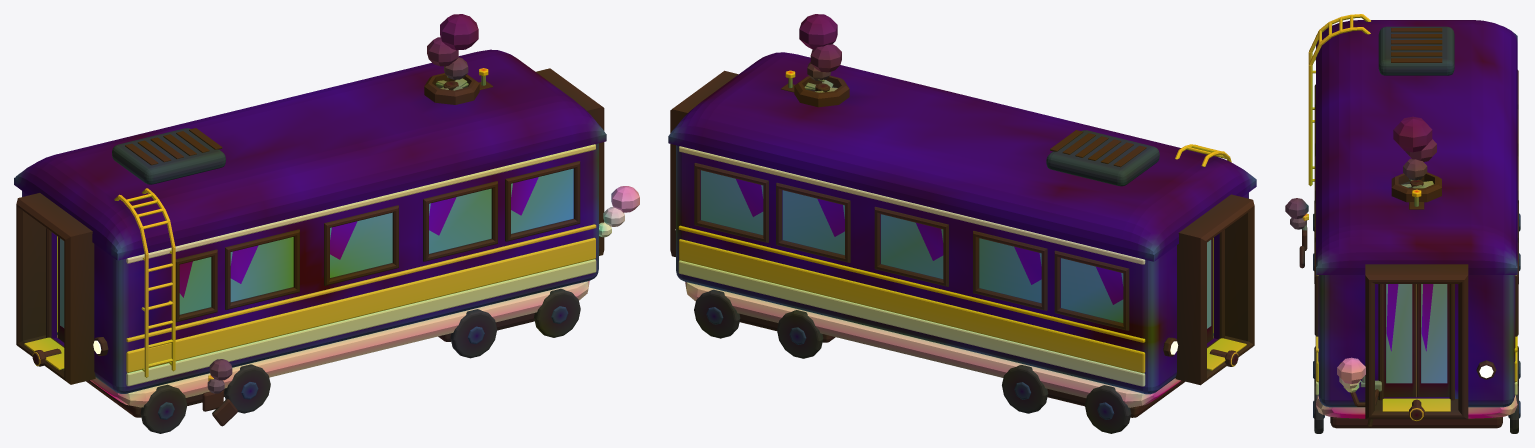
Rendered from ModernCoach_Closed_Blockout.glb.
3 renders of one model, left to right at view 1: azimuth 30°, elevation 25°; view 2: azimuth 150°, elevation 25°; view 3: azimuth 270°, elevation 25°, orthographic. The views are drawn at different scales.
Parts seen in each view (by area): view 1: Roof, Body, Windows, Livery, Underframe, Ends, RoofLadder, Broken_Bits__Aircon, Broken_Bits__BrakeHose, Broken_Bits__AxleBox, EndDoorLeaf_R_Rear; view 2: Roof, Body, Windows, Livery, Underframe, Ends, Broken_Bits__Aircon, EndDoorLeaf_L_Rear; view 3: Roof, Body, Ends, Underframe, EndDoorLeaf_L_Front, EndDoorLeaf_R_Front, Broken_Bits__Aircon, RoofLadder, Windows, Broken_Bits__BrakeHose, Broken_Bits__AxleBox, Livery (+1 smaller).
Boxes of the visible parts, left/top/right/bottom form: Roof: left=14, top=49, right=606, bottom=260; Body: left=22, top=143, right=598, bottom=393; Windows: left=175, top=161, right=580, bottom=322; Livery: left=126, top=144, right=596, bottom=386; Underframe: left=86, top=281, right=589, bottom=433; Ends: left=16, top=68, right=604, bottom=384; RoofLadder: left=114, top=188, right=175, bottom=377; Broken_Bits__Aircon: left=427, top=14, right=478, bottom=90; Broken_Bits__BrakeHose: left=599, top=186, right=639, bottom=237; Broken_Bits__AxleBox: left=207, top=359, right=237, bottom=426; EndDoorLeaf_R_Rear: left=57, top=236, right=64, bottom=342; Roof: left=668, top=52, right=1256, bottom=261; Body: left=676, top=145, right=1248, bottom=394; Windows: left=694, top=163, right=1129, bottom=330; Livery: left=678, top=146, right=1145, bottom=386; Underframe: left=685, top=282, right=1184, bottom=433; Ends: left=670, top=70, right=1254, bottom=385; Broken_Bits__Aircon: left=799, top=14, right=841, bottom=92; EndDoorLeaf_L_Rear: left=1207, top=238, right=1213, bottom=342; Roof: left=1316, top=20, right=1517, bottom=274; Body: left=1318, top=275, right=1515, bottom=407; Ends: left=1339, top=264, right=1496, bottom=419; Underframe: left=1313, top=200, right=1520, bottom=433; EndDoorLeaf_L_Front: left=1383, top=284, right=1416, bottom=397; EndDoorLeaf_R_Front: left=1417, top=284, right=1449, bottom=397; Broken_Bits__Aircon: left=1393, top=116, right=1436, bottom=188; RoofLadder: left=1308, top=14, right=1370, bottom=186; Windows: left=1314, top=70, right=1518, bottom=336; Broken_Bits__BrakeHose: left=1337, top=357, right=1379, bottom=427; Broken_Bits__AxleBox: left=1285, top=198, right=1308, bottom=268; Livery: left=1315, top=275, right=1517, bottom=395.
Bounding box in the file's own units: 8.45 × 4.21 × 3.1.
